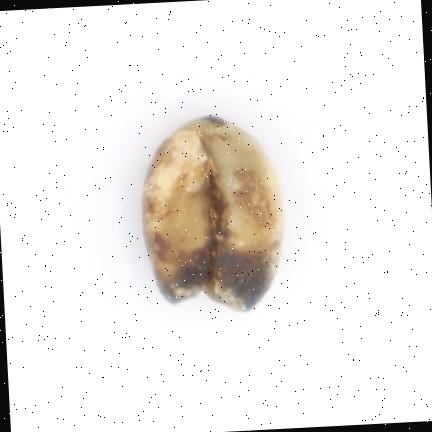partial-black: (143, 116, 283, 311)
